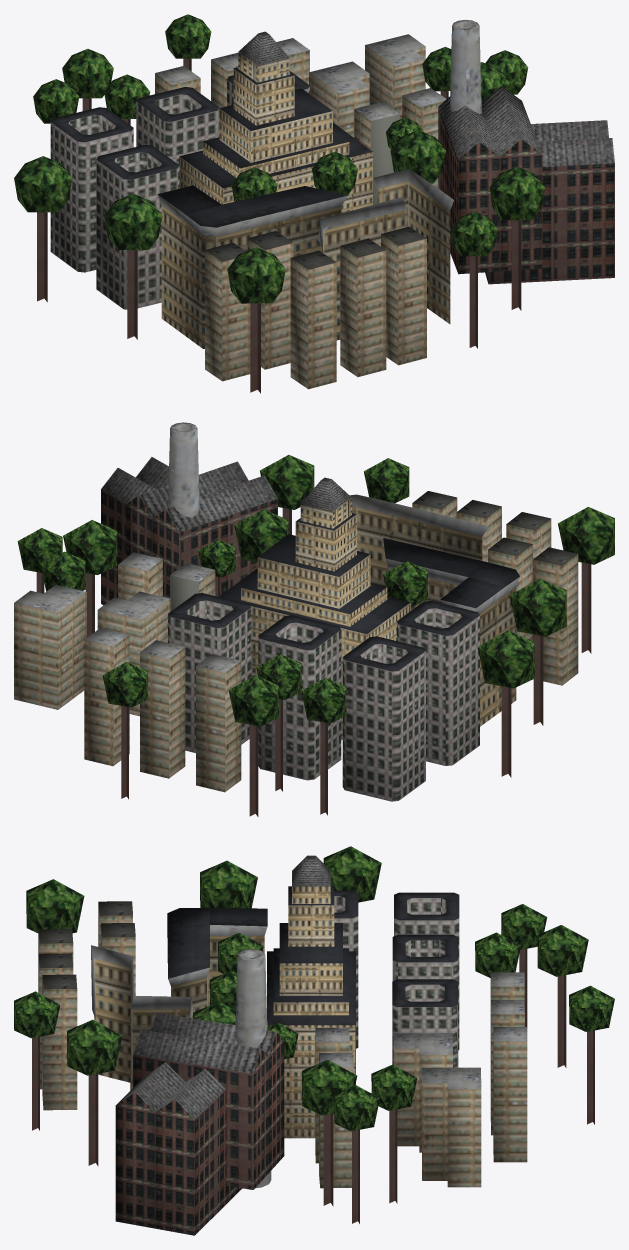
Rendered from city_modern_1.glb.
3 renders of one model, top to bottom at view 1: azimuth 30°, elevation 25°; view 2: azimuth 150°, elevation 25°; view 3: azimuth 270°, elevation 25°, orthographic.
Parts seen in each view (by area): view 1: ModernCity_Tier2; view 2: ModernCity_Tier2; view 3: ModernCity_Tier2.
Boxes of the visible parts, x1=… form: ModernCity_Tier2: x1=14, y1=14, x2=614, y2=393; ModernCity_Tier2: x1=14, y1=422, x2=614, y2=816; ModernCity_Tier2: x1=14, y1=846, x2=614, y2=1235.
Size of the model in its own units: 3.39 by 1.5 by 3.41.
Materials: 1 (1 with a texture image).
